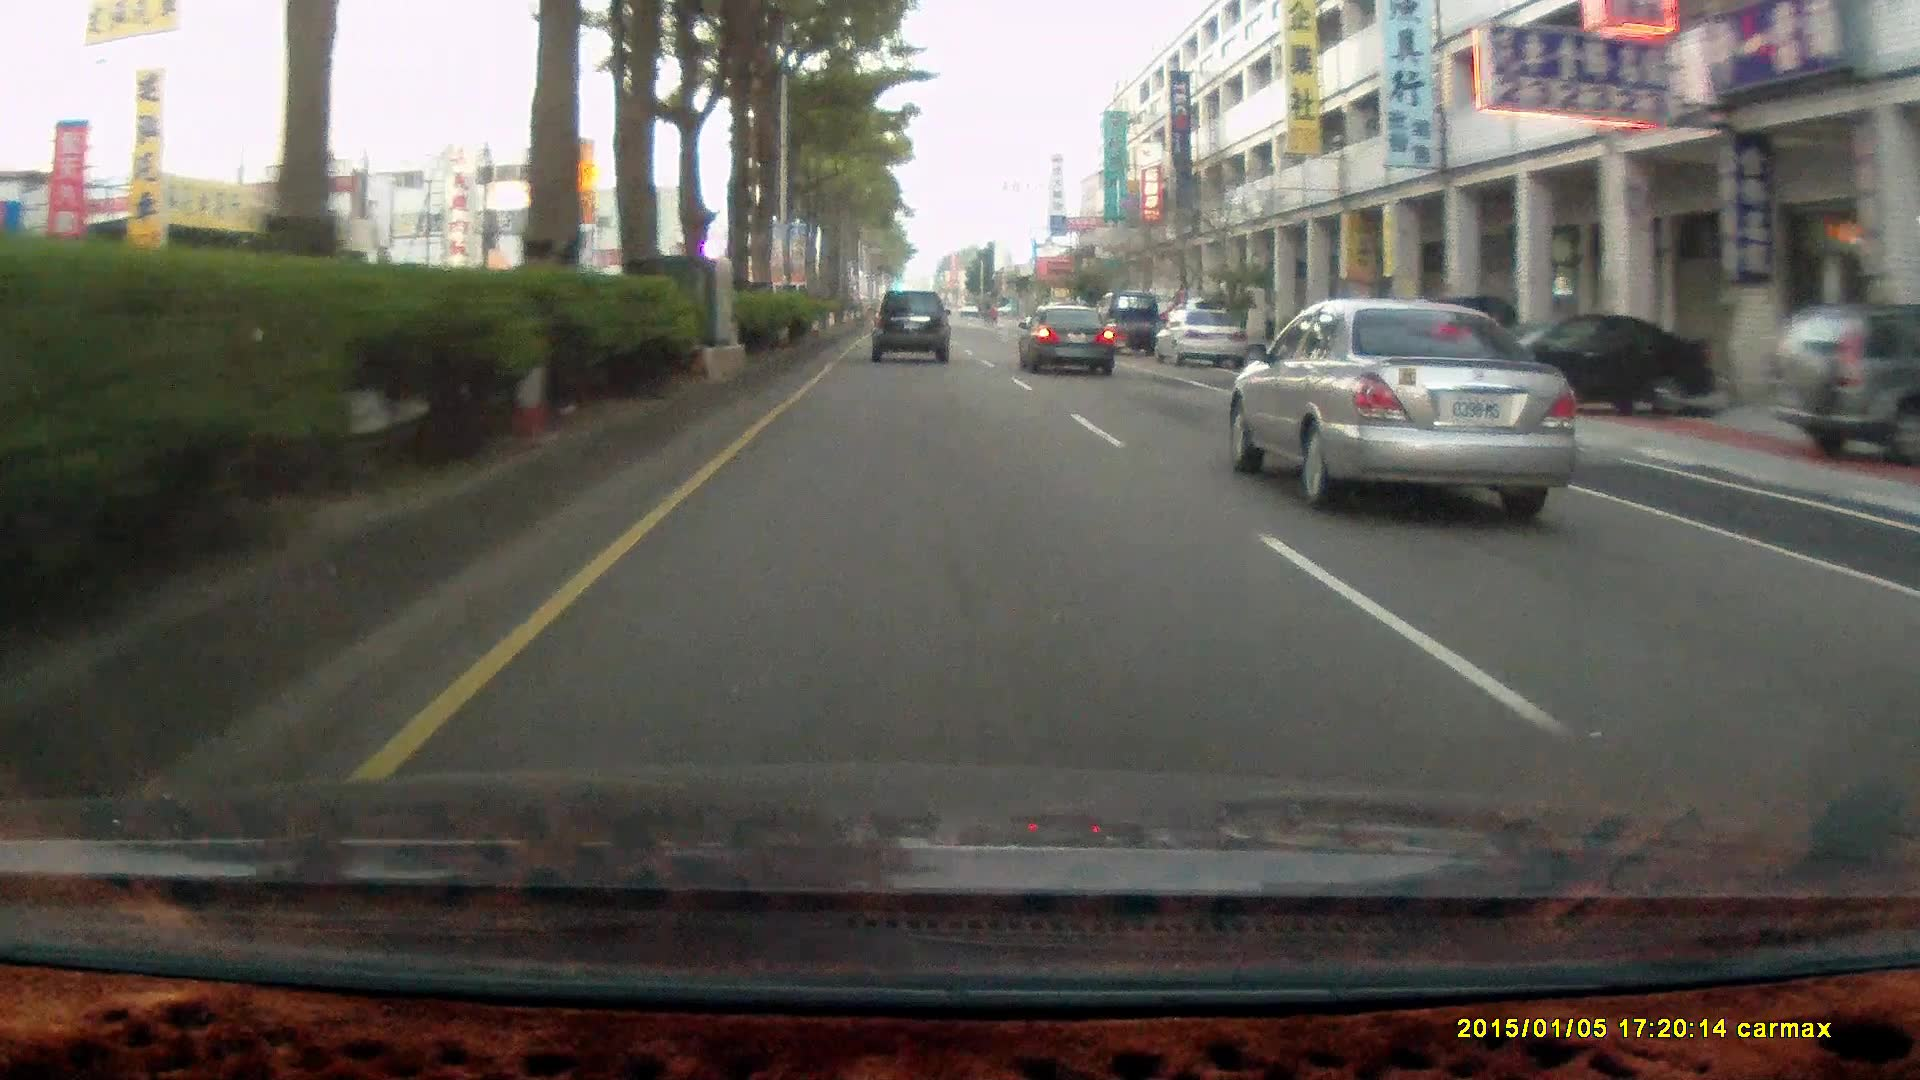vehicle: (1226, 295, 1585, 520), (1432, 313, 1718, 419), (1440, 311, 1720, 417), (1766, 301, 1920, 462), (1015, 305, 1120, 378), (1015, 305, 1114, 377), (870, 289, 953, 367), (868, 287, 951, 359), (1150, 306, 1246, 367), (1158, 314, 1253, 369), (1096, 290, 1160, 353)
